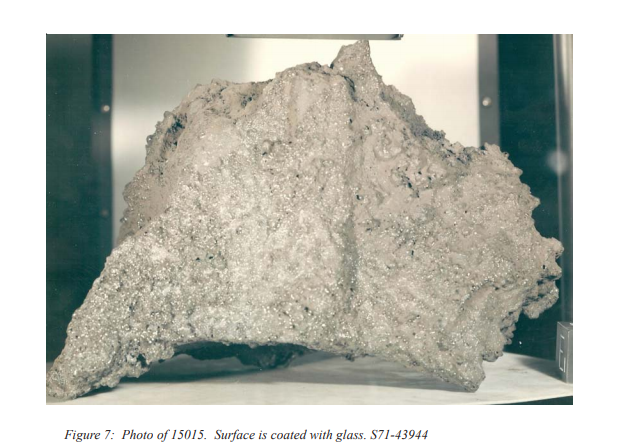Breccia: (79, 70, 557, 385), (317, 100, 565, 383)
